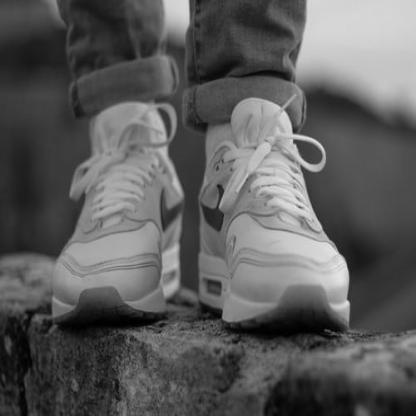ankle: (161, 155, 167, 166), (208, 179, 214, 186)
heel: (173, 241, 178, 250), (205, 247, 207, 254)
left_foot: (200, 140, 352, 327)
pinky: (333, 259, 337, 264), (58, 268, 61, 274)
right_foot: (49, 116, 183, 323)
toe: (142, 278, 147, 284), (256, 262, 259, 270)
